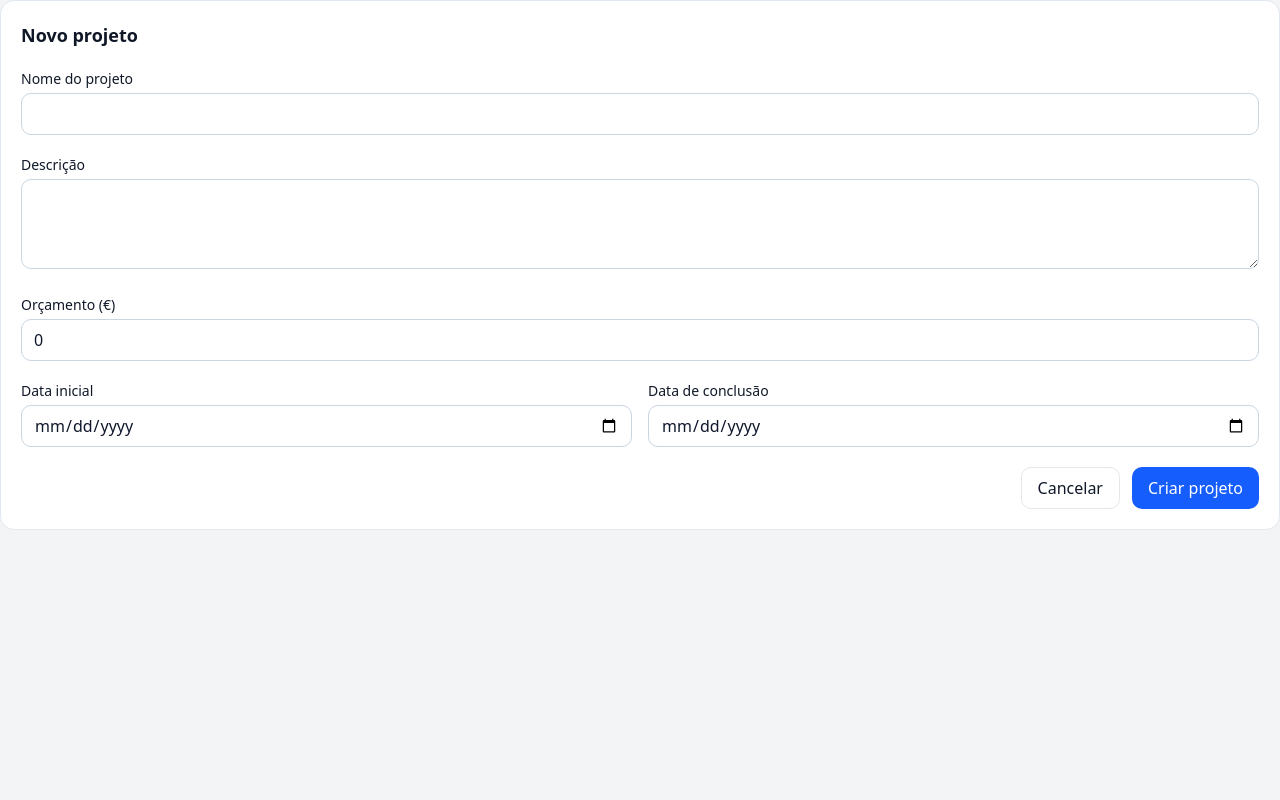
Test: ProjectForm › deve impedir datas de conclusão anteriores à inicial
The width and height of the screenshot is (1280, 800).
Type "Projeto com datas inválidas" into the field labelled "Nome do projeto" at (640, 114), box [21,93,1259,135]
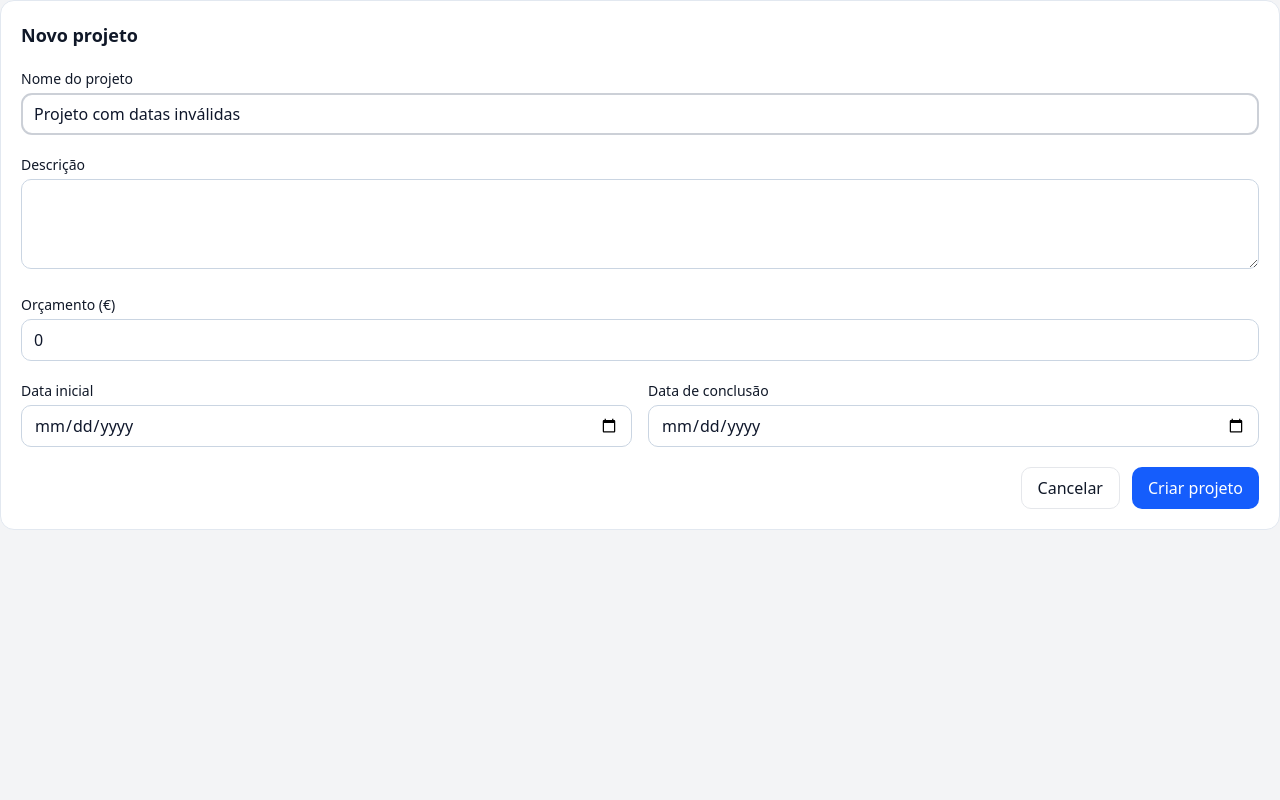
Type "2026-11-20" into the date field labelled "Data inicial" at (326, 426), box [21,405,632,447]
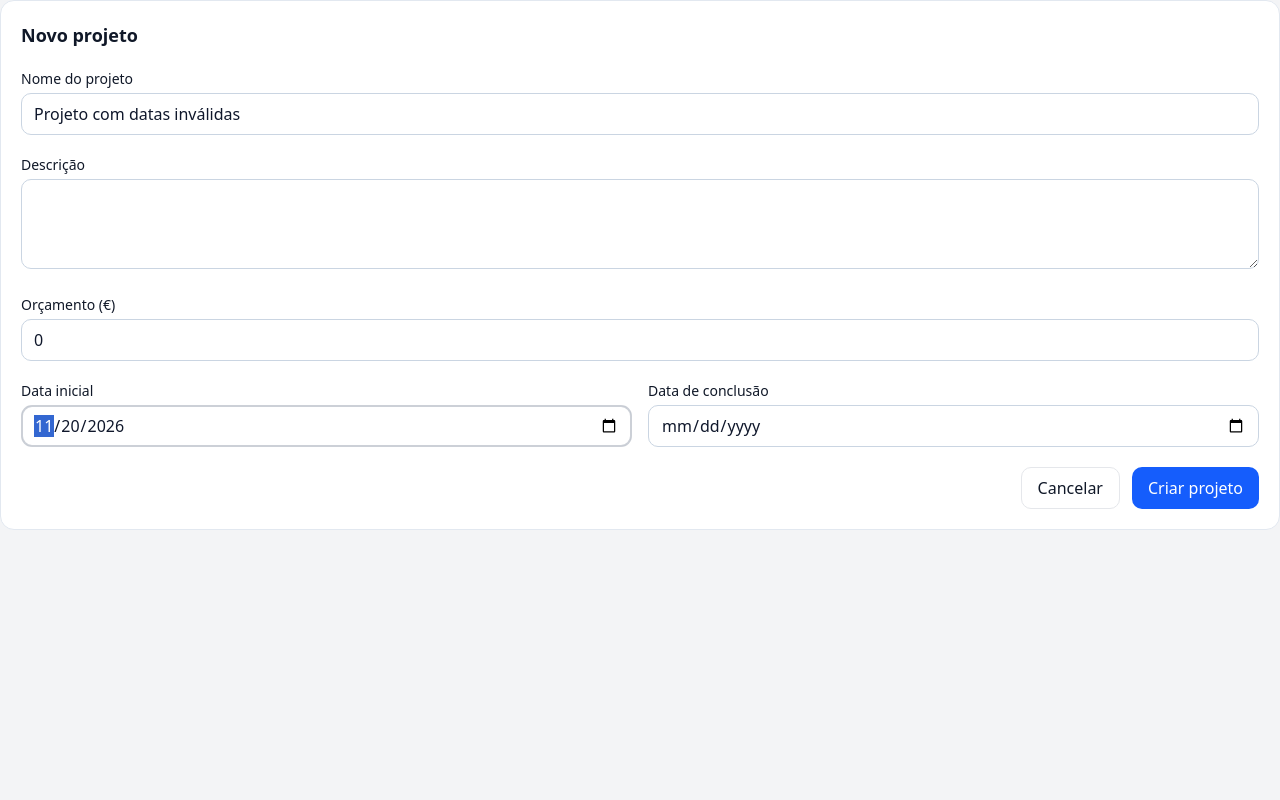
Type "2026-11-10" into the date field labelled "Data de conclusão" at (954, 426), box [648,405,1259,447]
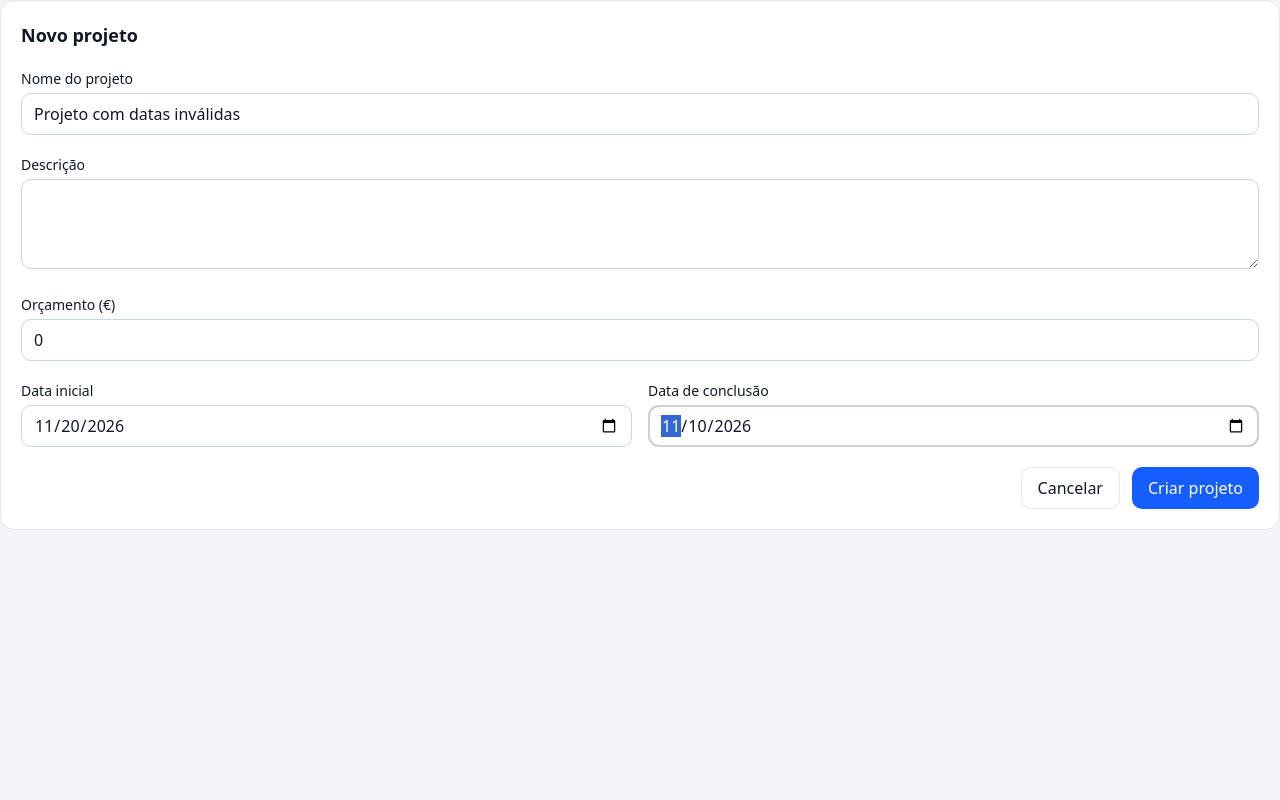
Click the button "Criar projeto" at (1196, 488), box [1132,467,1259,509]
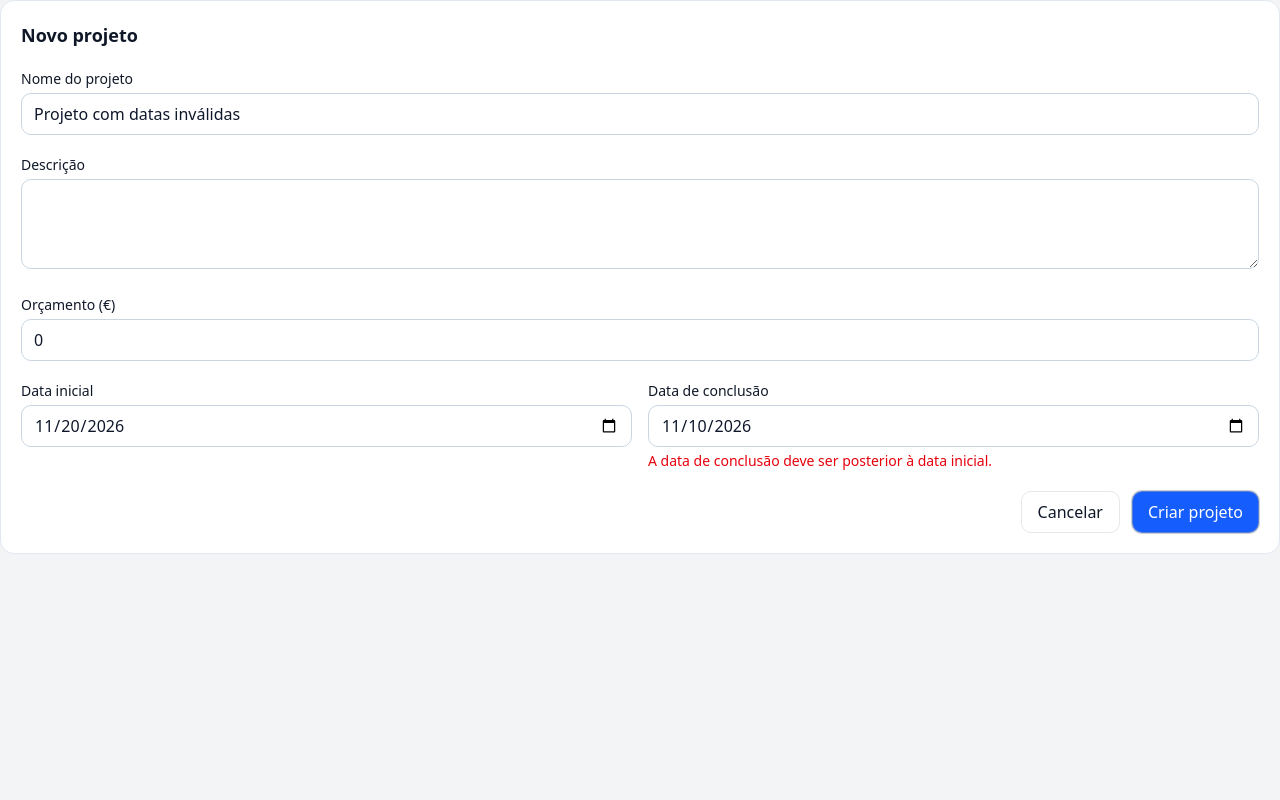
Result: the text "A data de conclusão deve ser posterior à data inicial." is shown at [648,451,992,470]
